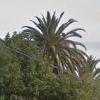Palm tree: (26, 10, 84, 97)
